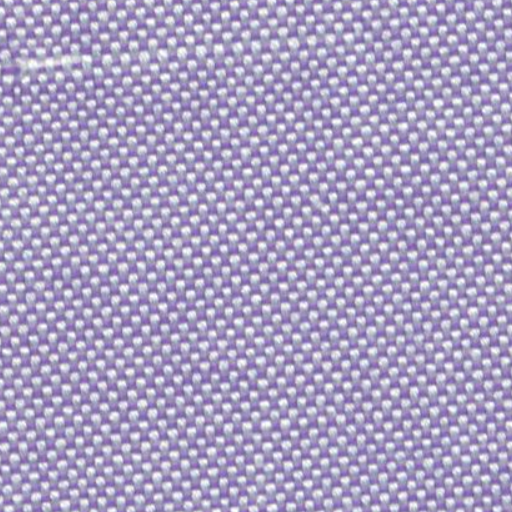DaiSha: (10, 28, 332, 78)
